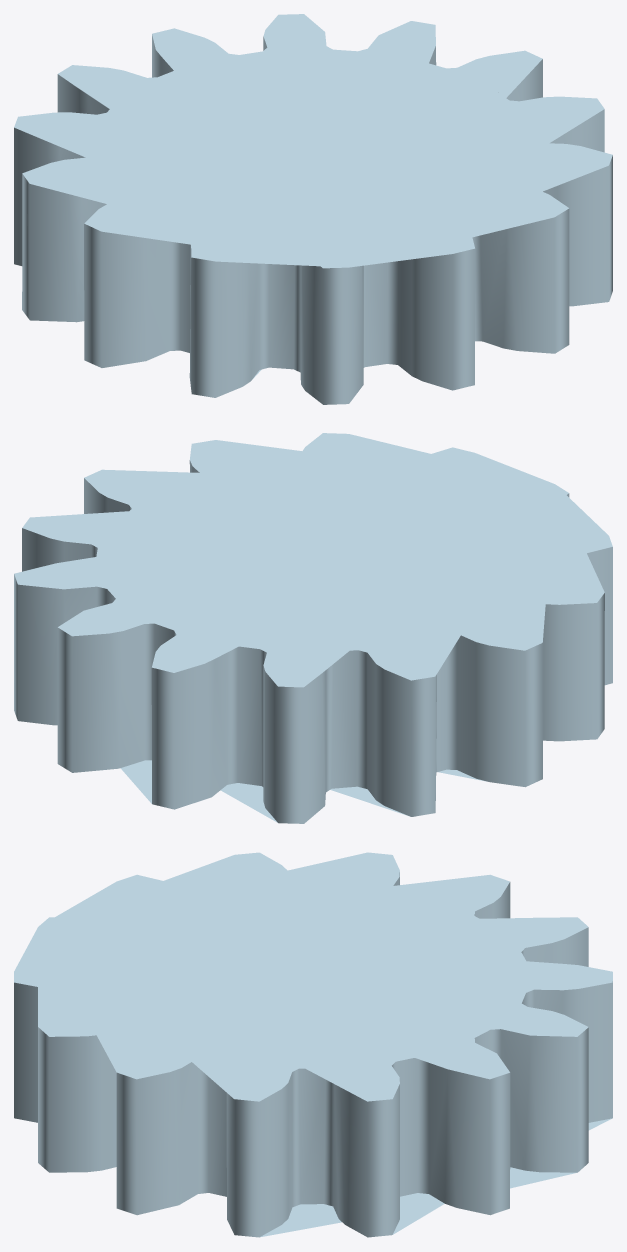
File: pinion14t.fbx
3 renders of one model, top to bottom at view 1: azimuth 30°, elevation 25°; view 2: azimuth 150°, elevation 25°; view 3: azimuth 270°, elevation 25°, orthographic.
Parts seen in each view (by area): view 1: Spur gear (14 teeth); view 2: Spur gear (14 teeth); view 3: Spur gear (14 teeth).
Boxes of the visible parts, x1,y1,x2,y2 form: Spur gear (14 teeth): (14,14,612,404); Spur gear (14 teeth): (14,433,612,823); Spur gear (14 teeth): (14,852,612,1237).
Size of the model in its own units: 2 by 0.508 by 2.03.
